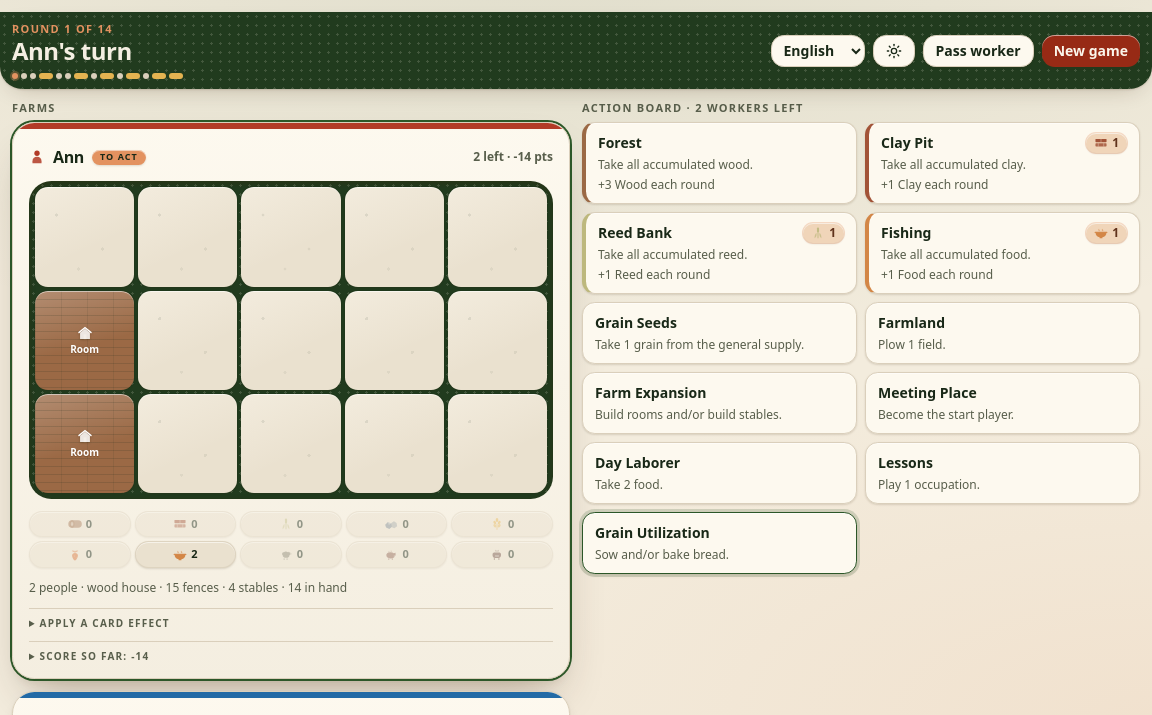
errors › shows an illegal action as an alert
Click the button "Forest Take all accumulated wood. +3 Wood each round": [720, 163] box [582,122,857,204]
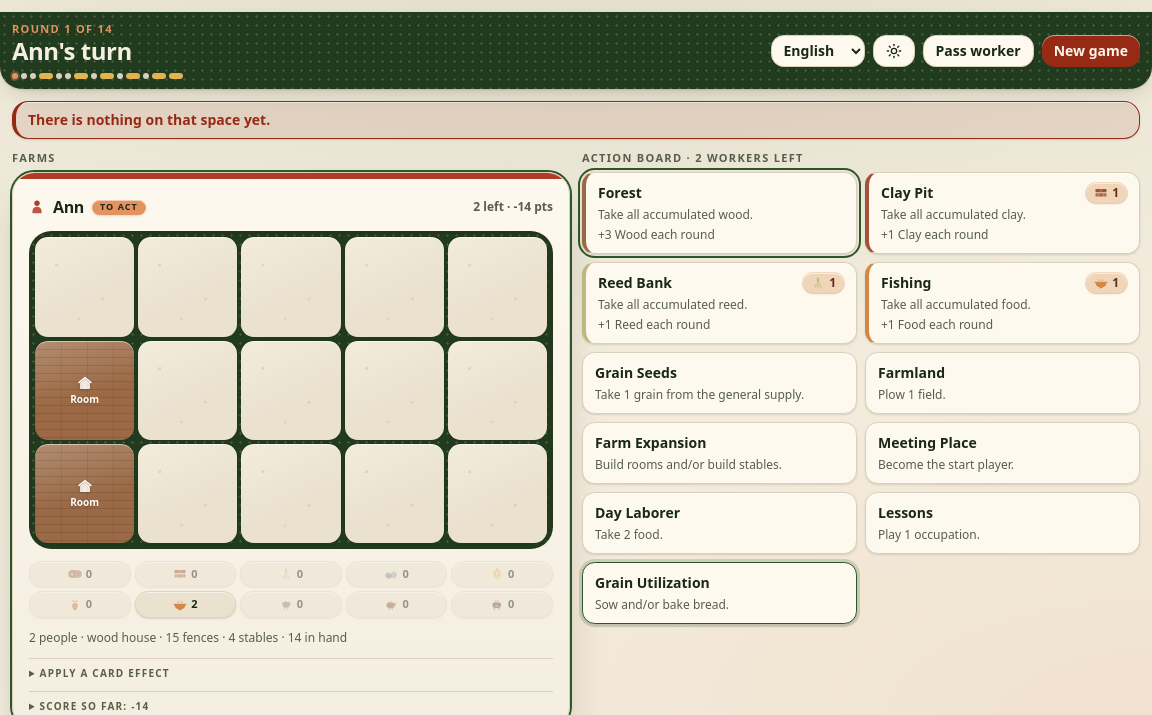
Expected: the heading "Ann's turn" is shown, [12,34,132,67]
Result: the message shows "nothing" at [28,110,270,129]
